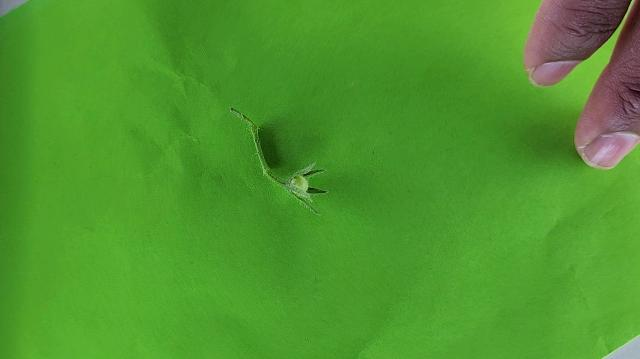Fruit Bud: (284, 166, 329, 212)
